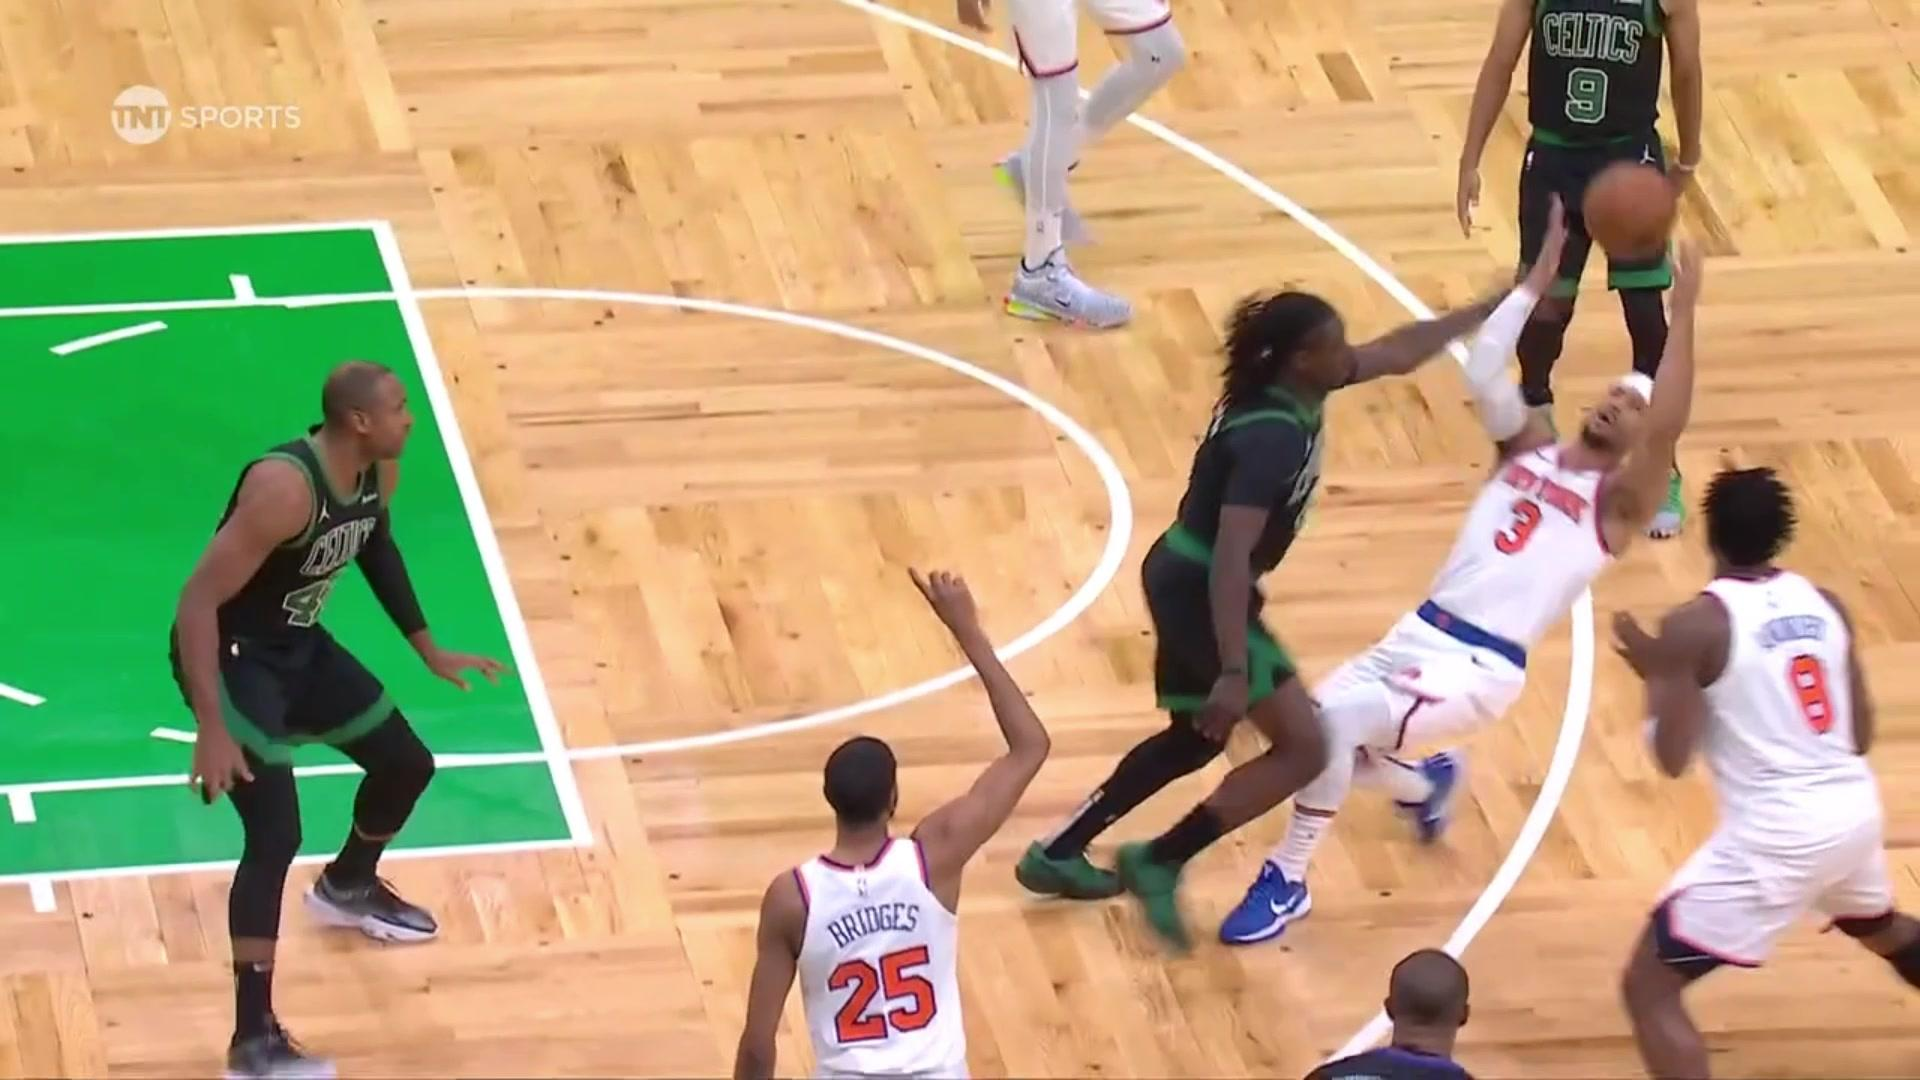foul: (1102, 280, 1691, 971)
